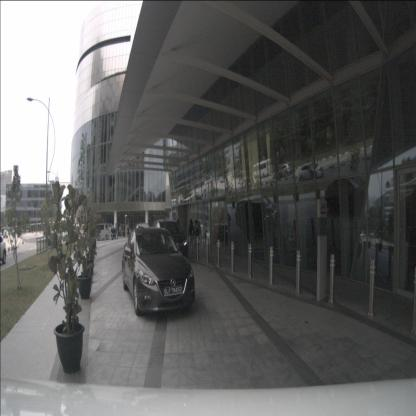human-pedestrian-adult: (187, 218, 194, 256), (193, 218, 200, 256), (114, 223, 118, 240), (126, 223, 130, 240), (118, 223, 121, 238)
vehicle-bus-rigid: (252, 159, 274, 180)
vehicle-car: (122, 228, 195, 316), (325, 176, 369, 216), (151, 219, 188, 264), (235, 195, 278, 233), (199, 211, 229, 244), (298, 162, 324, 183), (96, 223, 116, 241), (135, 223, 151, 245), (183, 192, 202, 210), (276, 162, 294, 178), (0, 234, 7, 264), (3, 230, 8, 238)
